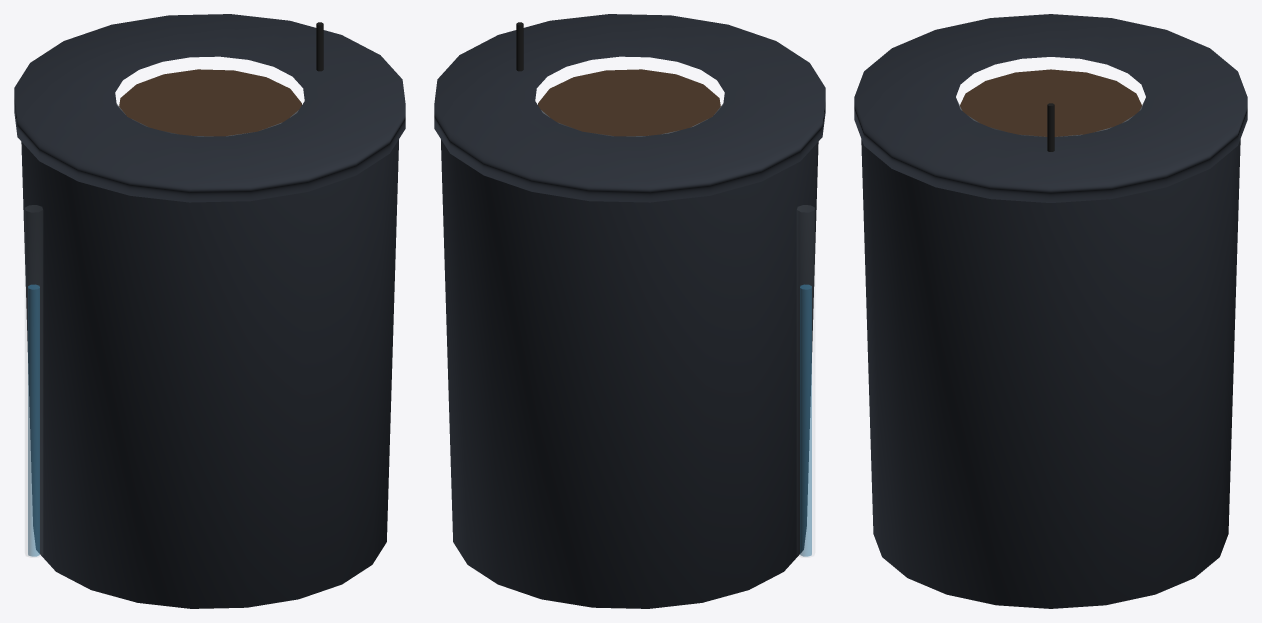
The model's file is dwc-bucket-20l--empty.glb.
The picture shows the model from 3 angles, left to right: view 1: azimuth 30°, elevation 25°; view 2: azimuth 150°, elevation 25°; view 3: azimuth 270°, elevation 25°; orthographic projection.
Parts seen in each view (by area): view 1: bucket_body, bucket_lid, pebbles, sight_water; view 2: bucket_body, bucket_lid, pebbles, sight_water; view 3: bucket_body, bucket_lid, pebbles.
Part boxes in pixels (<box>): bucket_body: <box>21,140,398,608</box>; bucket_lid: <box>14,14,405,202</box>; pebbles: <box>119,69,301,136</box>; sight_water: <box>28,284,39,556</box>; bucket_body: <box>441,140,818,608</box>; bucket_lid: <box>434,14,825,202</box>; pebbles: <box>538,69,720,136</box>; sight_water: <box>800,284,811,556</box>; bucket_body: <box>861,139,1240,608</box>; bucket_lid: <box>854,14,1247,202</box>; pebbles: <box>960,69,1141,136</box>.
Size of the model in its own units: 0.3225 by 0.42 by 0.31.
